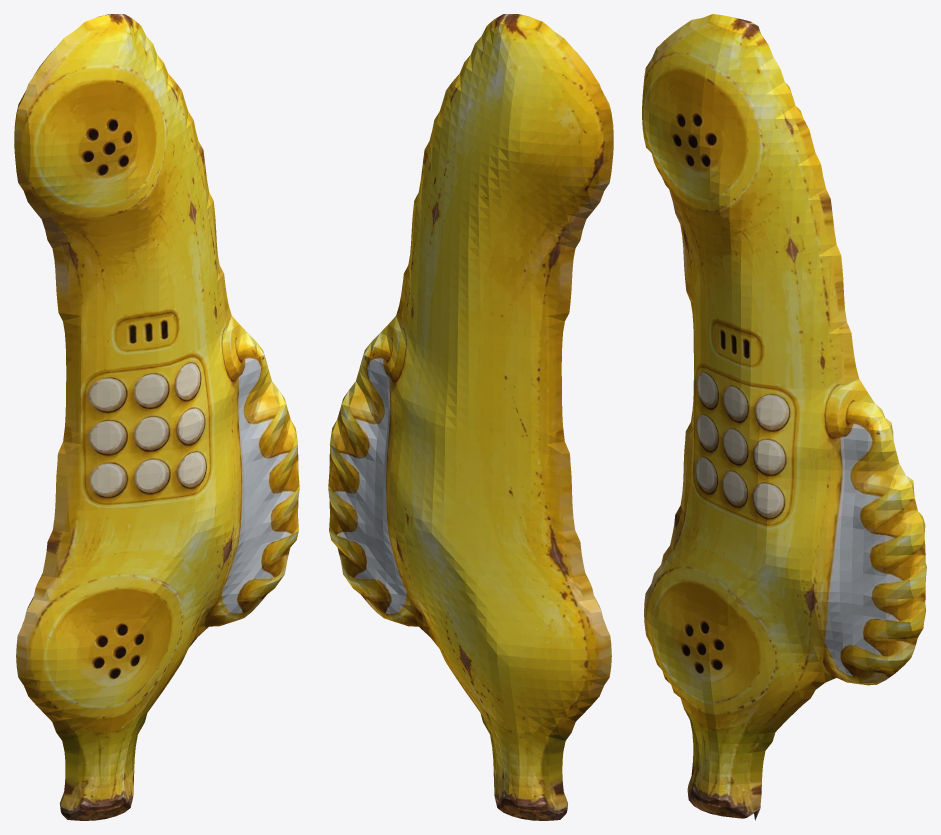
Rendered from banana_phone.glb.
3 renders of one model, left to right at view 1: azimuth 30°, elevation 25°; view 2: azimuth 150°, elevation 25°; view 3: azimuth 330°, elevation 25°, orthographic.
Parts seen in each view (by area): view 1: geometry_0; view 2: geometry_0; view 3: geometry_0.
Boxes of the visible parts, left/top/right/bottom form: geometry_0: left=14, top=14, right=299, bottom=820; geometry_0: left=328, top=14, right=613, bottom=820; geometry_0: left=642, top=14, right=926, bottom=820.
Bounding box in the file's own units: 0.3631 × 0.9802 × 0.1278.
Materials: 1 (1 with a texture image).
